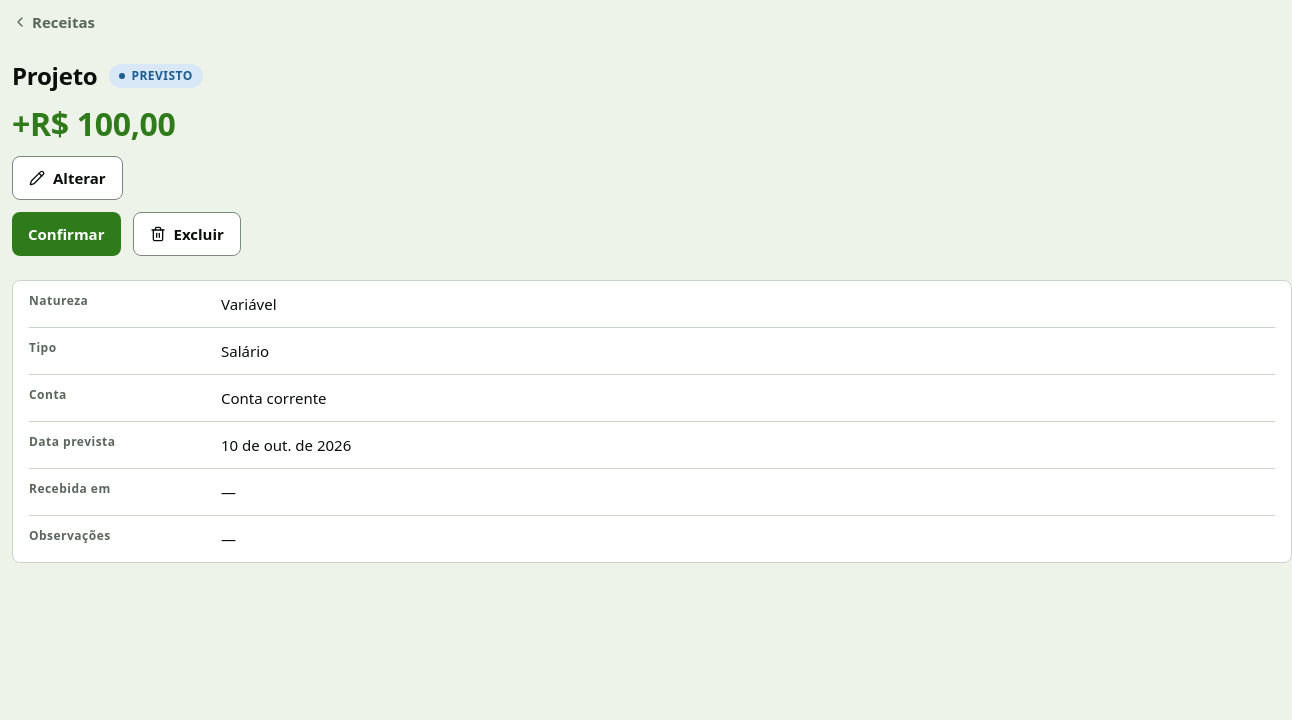
Test: EarningActions (spec 0014) › FORECAST → Confirmar sends only the status
Expected: the heading "Projeto" is shown, [12, 60, 98, 92]
Click the button "Confirmar" at (66, 234), box [12, 212, 120, 256]
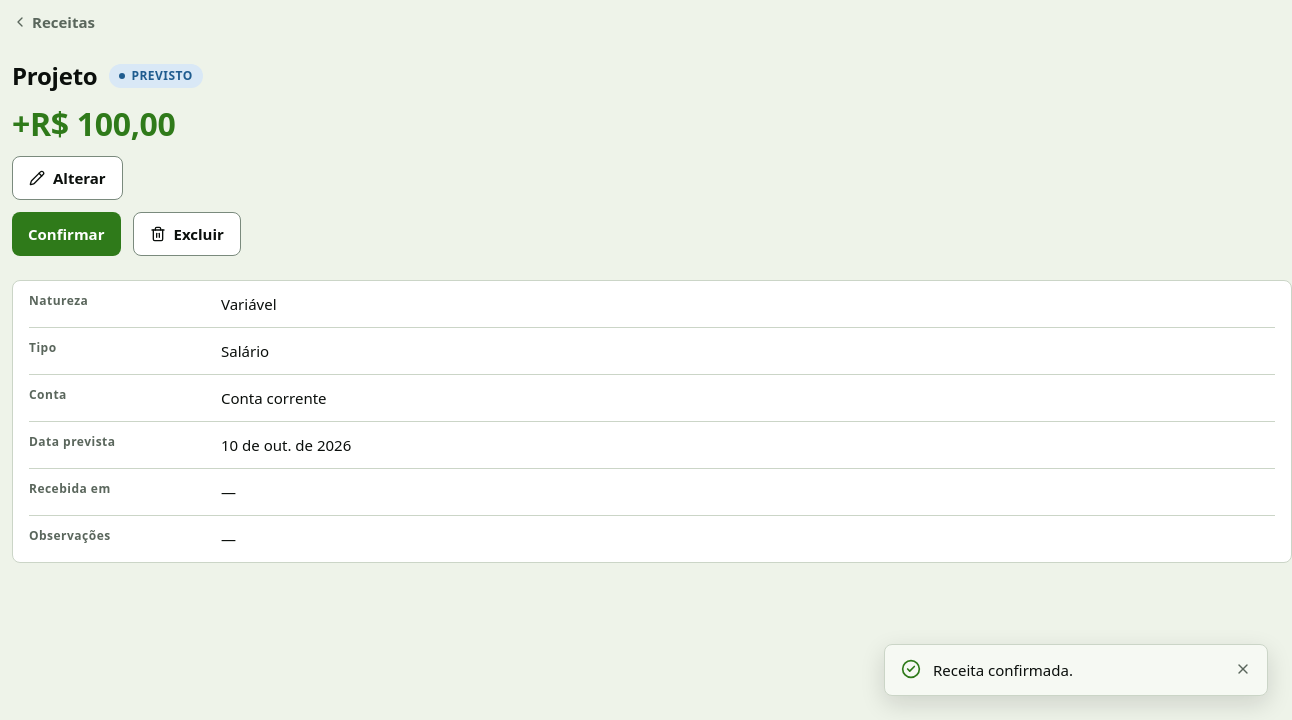
Expected: the text "Receita confirmada." is shown, [933, 660, 1073, 680]
